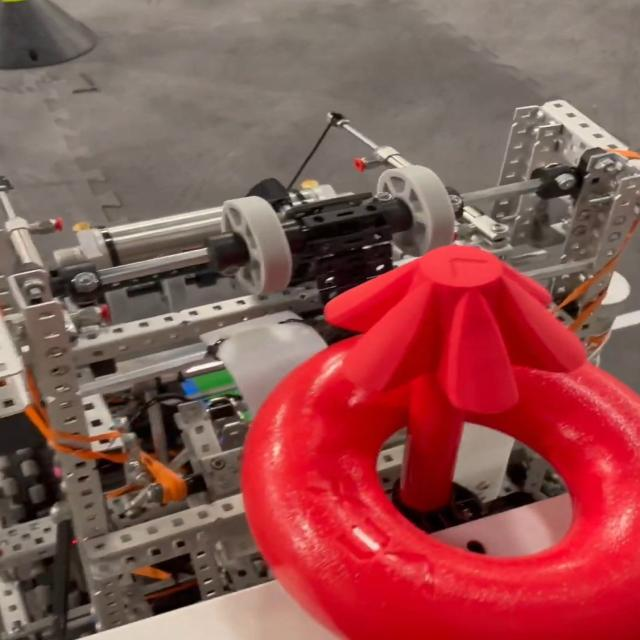Red-Ring: (242, 333, 640, 640)
zred-Stake-Head: (324, 246, 586, 414)
